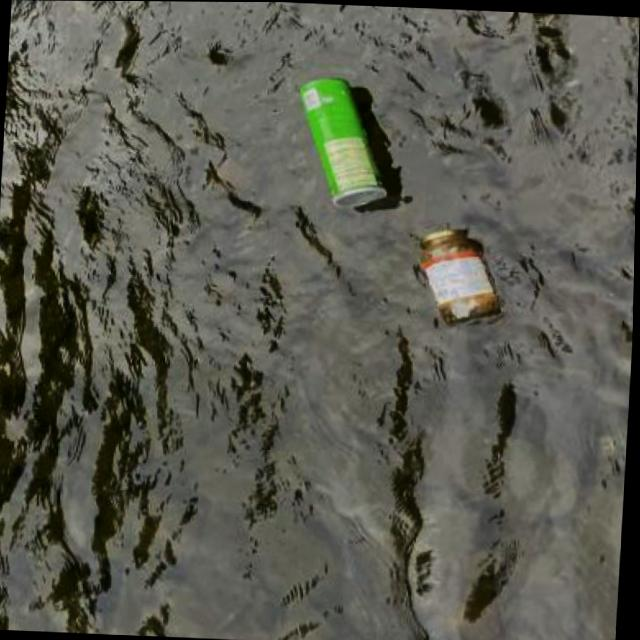Bottle-Glass: (402, 214, 516, 334)
Can-Metal: (286, 65, 407, 213)
